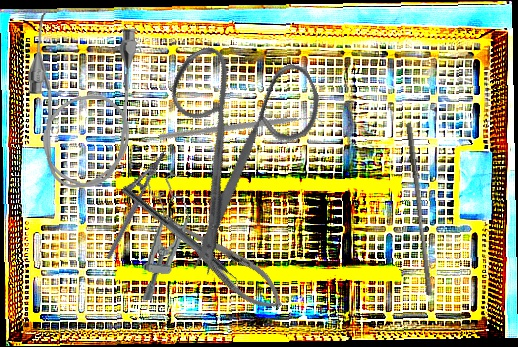Cannula: (24, 12, 138, 191)
Chopper: (158, 50, 326, 213), (114, 184, 251, 298)
Iris Scissors: (113, 13, 368, 282)
Needle Holder: (153, 201, 293, 321), (91, 143, 168, 260)
Pusher: (399, 123, 439, 296)
Speculum: (132, 169, 194, 304)
